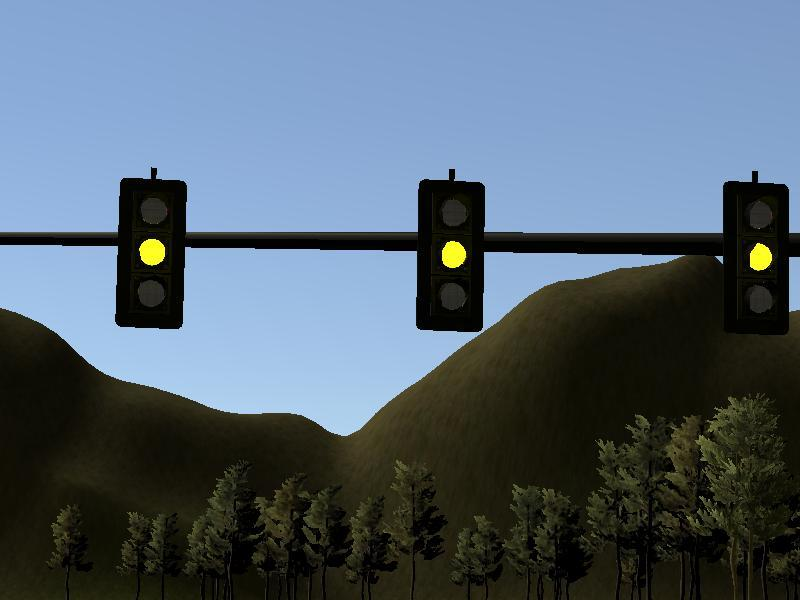Yellow: (417, 179, 486, 332), (721, 181, 789, 336), (117, 177, 186, 329)
